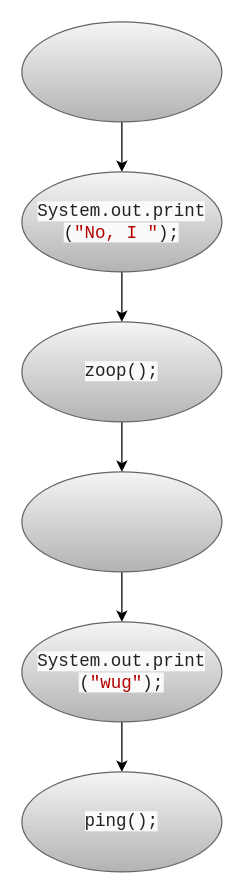
Some shapes in this 244 by 894 pixel diagram are drawn without their labels. Here are the shapes that lost their labels. From the top down, the box of each, then its label:
(21, 21, 222, 122): Main
(21, 471, 222, 572): baffle();
